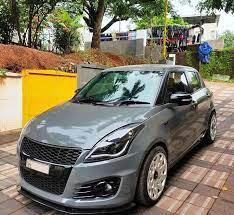Hatchback: (13, 62, 221, 209)
